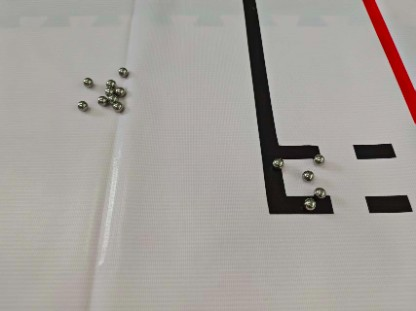ironball: (302, 196, 316, 210), (313, 186, 326, 198), (312, 152, 324, 164), (95, 93, 106, 106), (301, 169, 312, 181), (271, 156, 282, 167), (112, 100, 122, 112), (112, 86, 124, 96), (76, 99, 86, 110), (116, 66, 127, 75), (105, 78, 114, 87), (82, 77, 92, 85), (108, 95, 116, 103), (103, 87, 112, 93)
